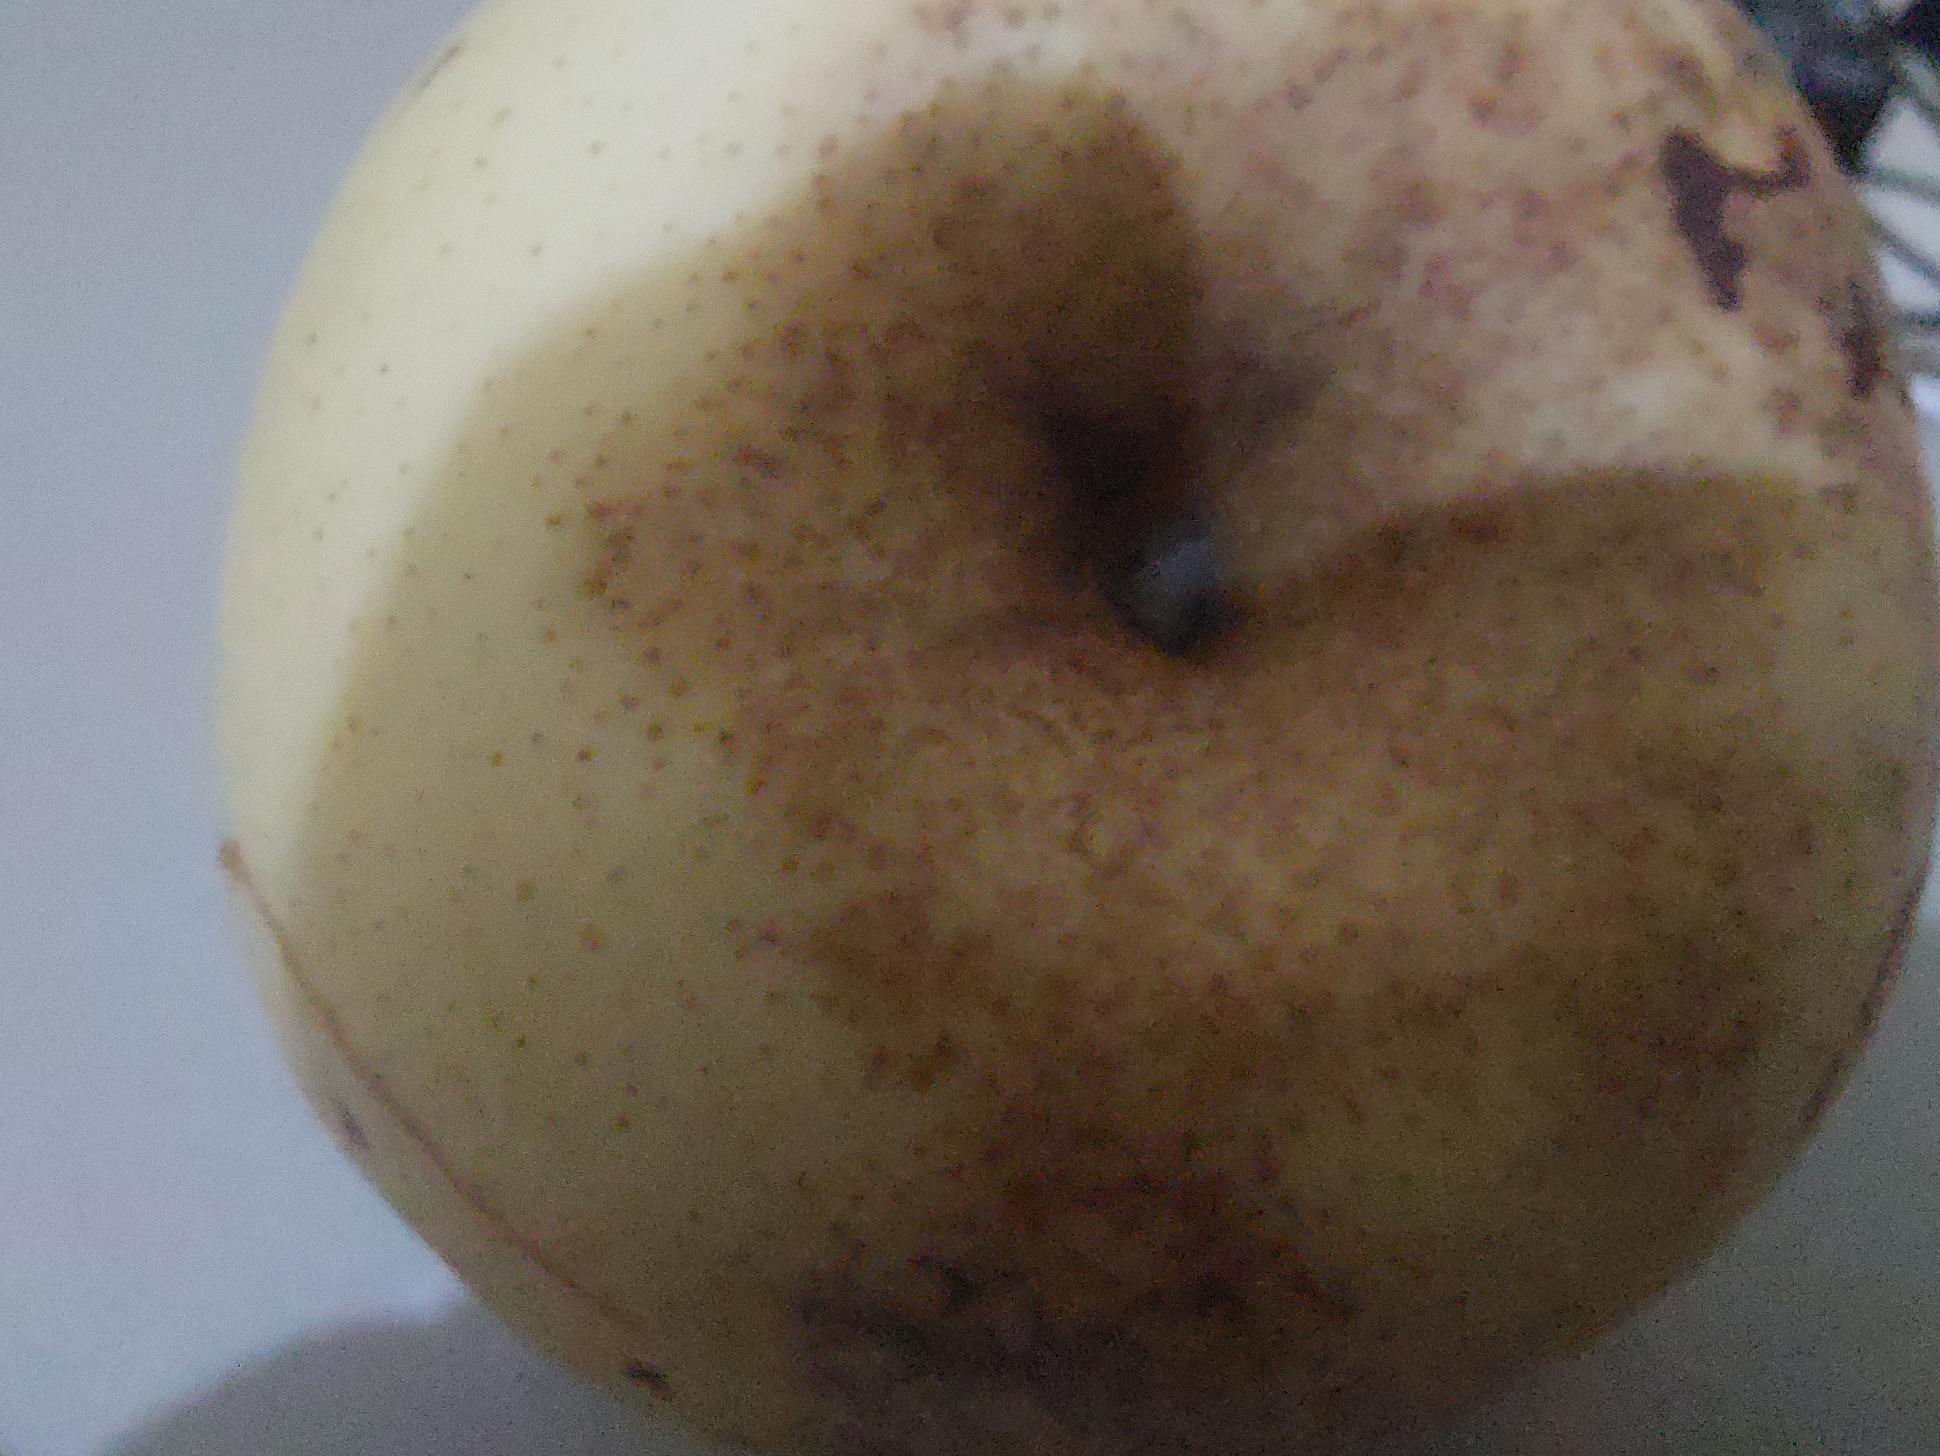Bad Pear: (206, 0, 1940, 1456)
